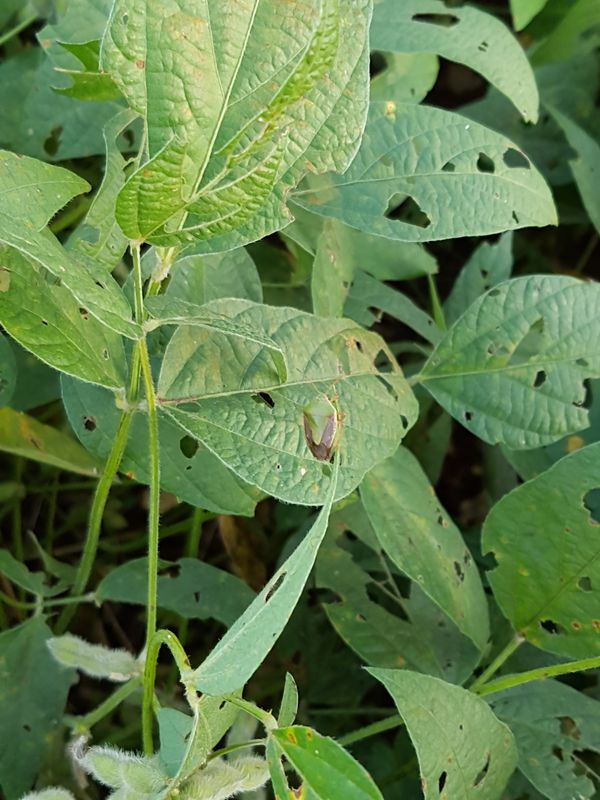Edessa_meditabunda: (278, 367, 366, 479)
